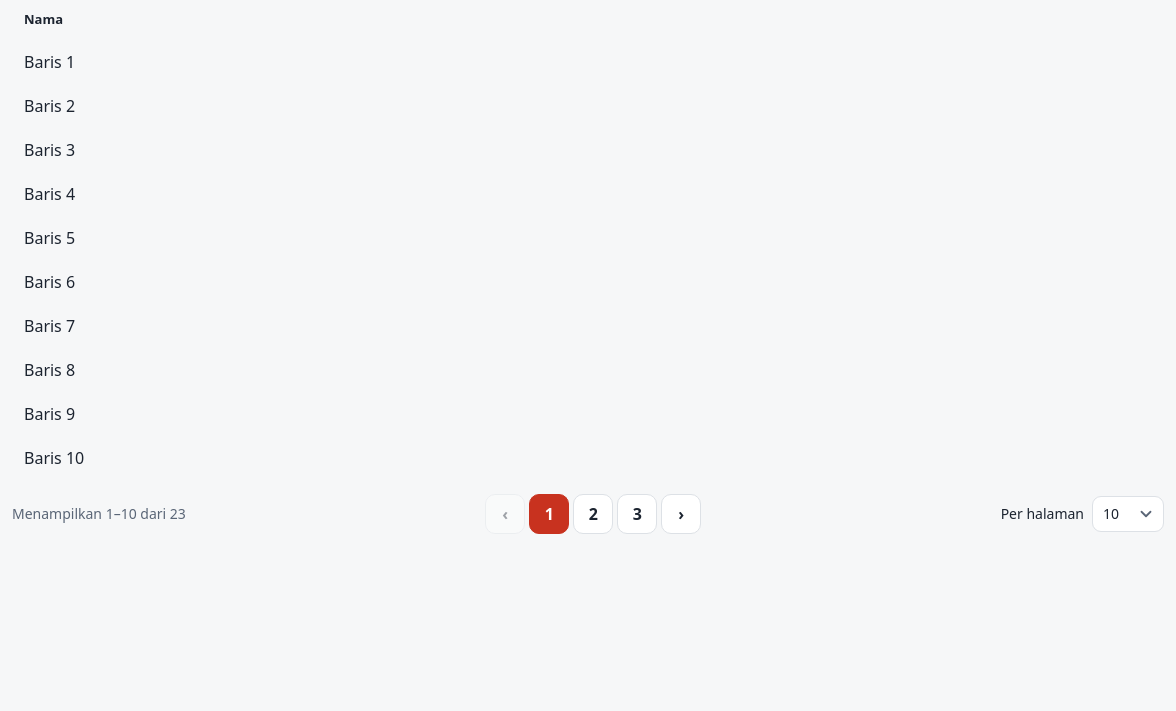
Test: paging tabel › tabel panjang dibagi per halaman, bisa pindah halaman dan ganti ukuran
The image size is (1176, 711).
Expected: the text "Baris 10" is shown, [12,436,1164,480]
Expected: the text "Baris 11" is not shown
Click the button named "Halaman 3" at (637, 514), box [617,494,657,534]
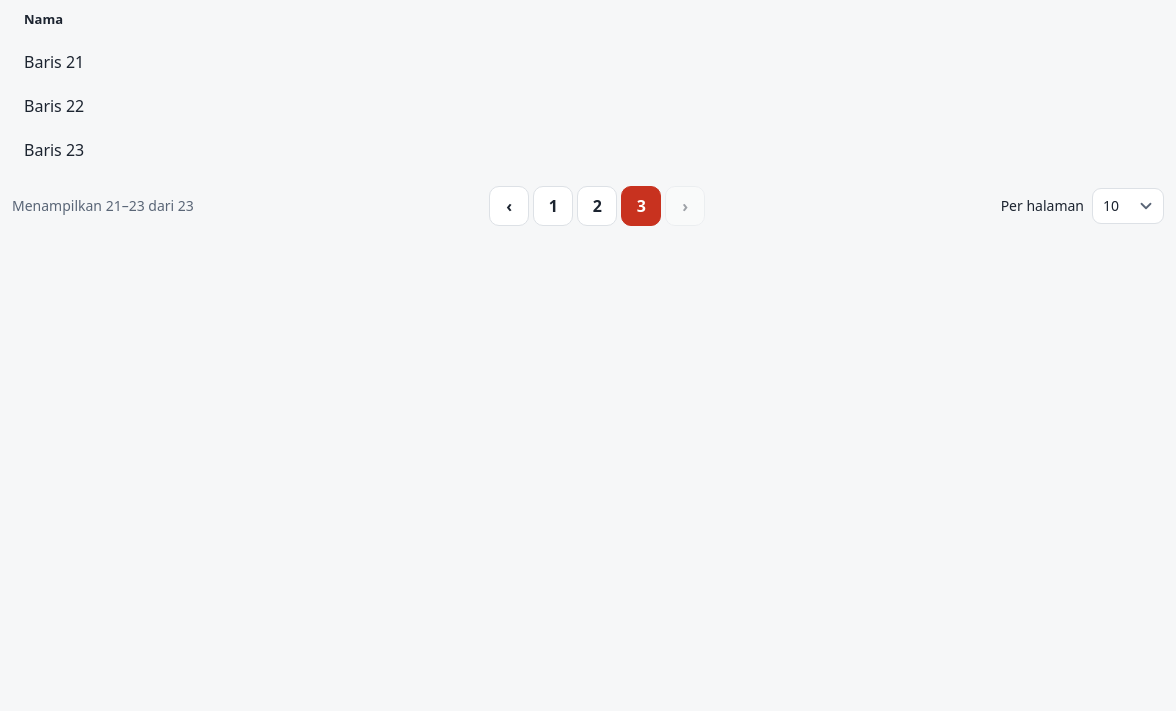
Expected: the text "Baris 23" is shown, [12,128,1164,172]
Expected: the text "Baris 1" is gone
Click the dropdown named "Per halaman" at (1128, 206), box [1092,188,1164,224]
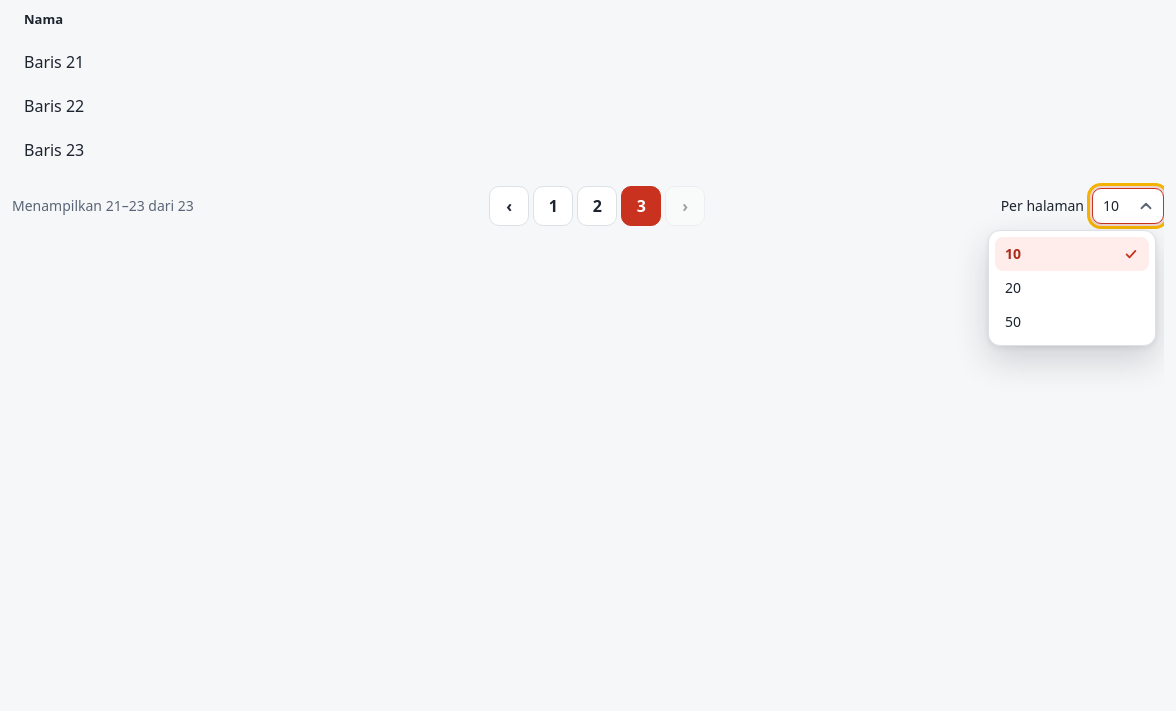
Click the option "50" at (1013, 322), box [1005,312,1021,331]
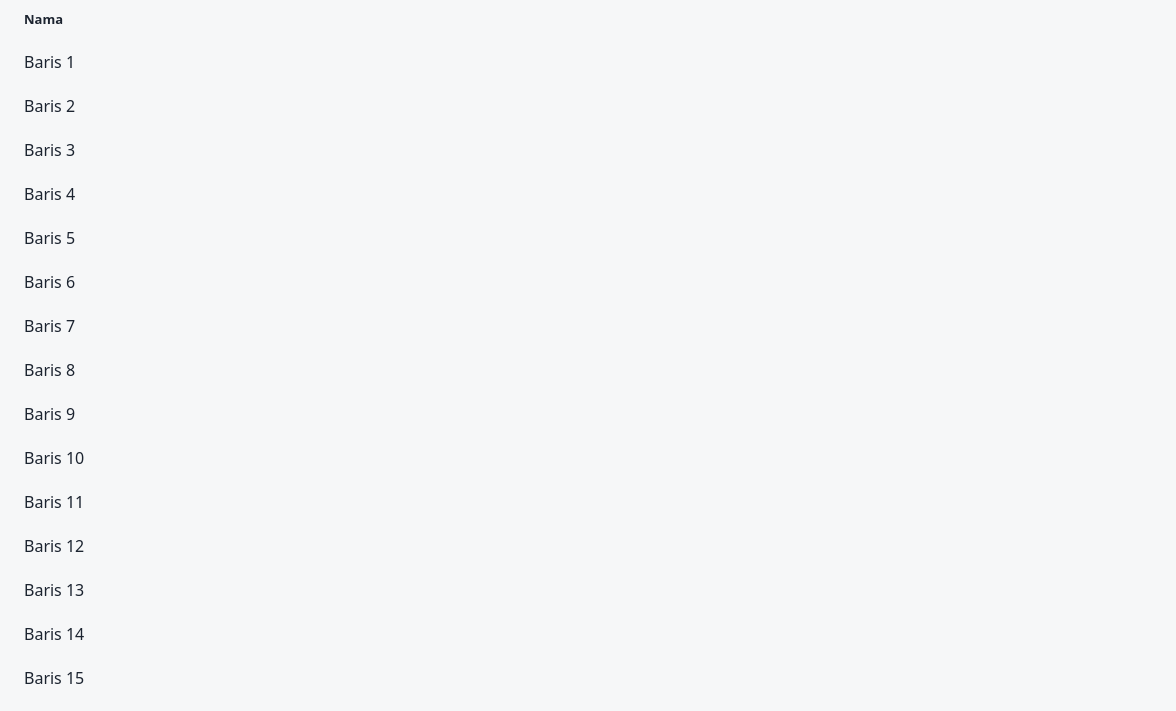
Expected: the number of rows is 24
